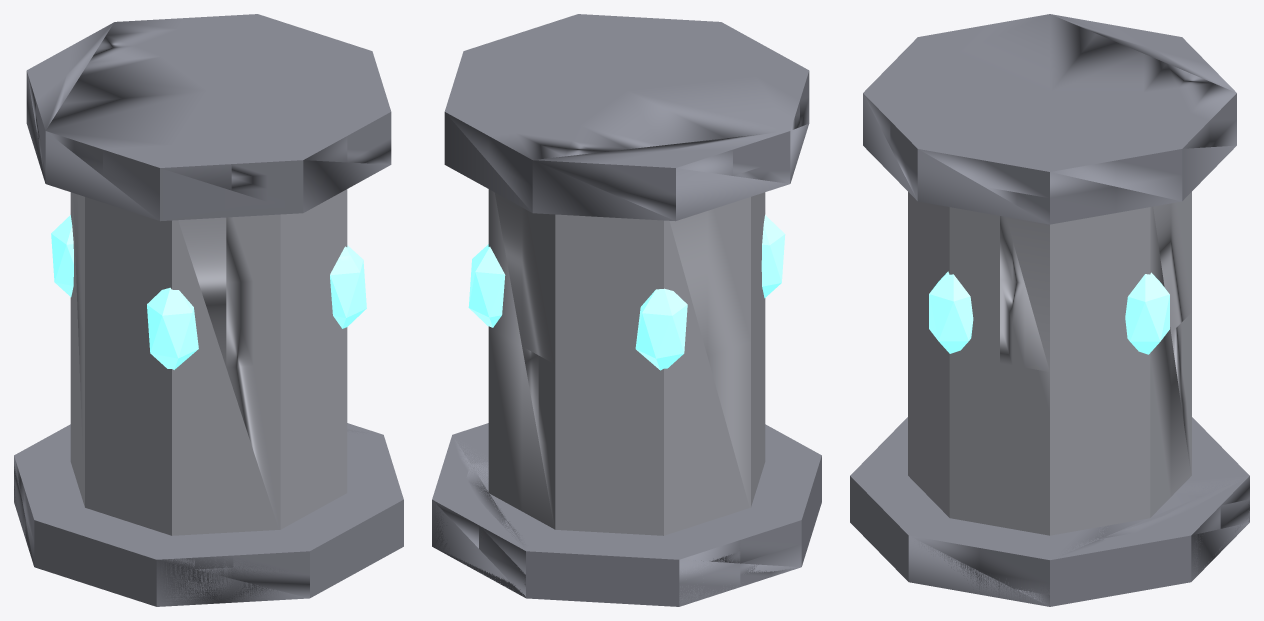
The model's file is pedestal.glb.
The picture shows the model from 3 angles, left to right: view 1: azimuth 30°, elevation 25°; view 2: azimuth 150°, elevation 25°; view 3: azimuth 270°, elevation 25°; orthographic projection.
Parts seen in each view (by area): view 1: PedestalFoot; view 2: PedestalFoot; view 3: PedestalFoot.
Part boxes in pixels (<box>): PedestalFoot: <box>14,14,403,606</box>; PedestalFoot: <box>432,14,821,606</box>; PedestalFoot: <box>850,14,1249,606</box>.
Size of the model in its own units: 1.24 by 1.47 by 1.24.
